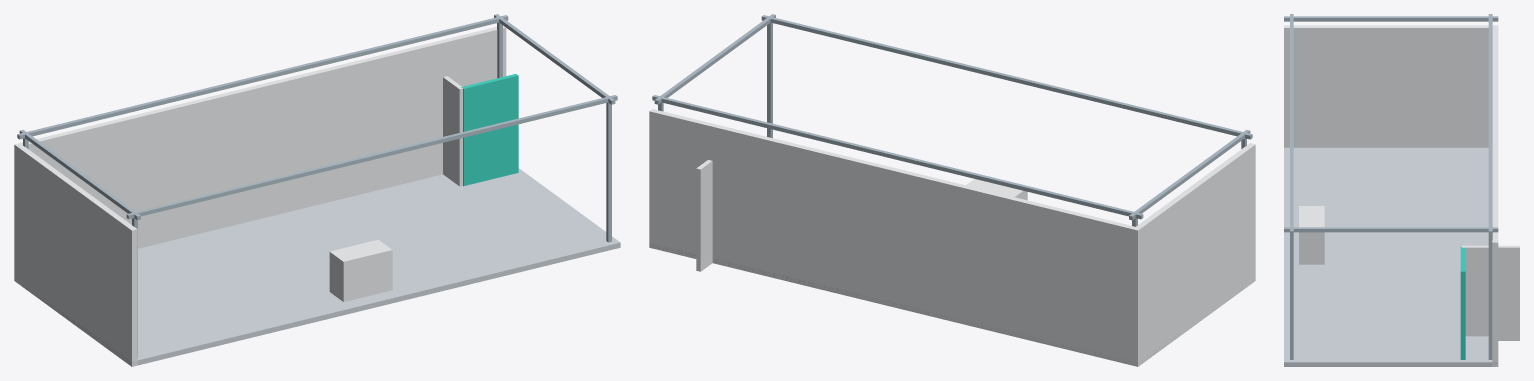
The picture shows the model from 3 angles, left to right: view 1: azimuth 30°, elevation 25°; view 2: azimuth 150°, elevation 25°; view 3: azimuth 270°, elevation 25°; orthographic projection. The views are drawn at different scales.
Visible parts, largest first — view 1: Exhibition Booth Concept; view 2: Exhibition Booth Concept; view 3: Exhibition Booth Concept.
Part boxes in pixels (x1,y1,x2,y2): Exhibition Booth Concept: [14, 14, 620, 366]; Exhibition Booth Concept: [649, 14, 1255, 366]; Exhibition Booth Concept: [1284, 14, 1519, 366].
Bounding box in the file's own units: 12 × 3.49 × 5.51.
